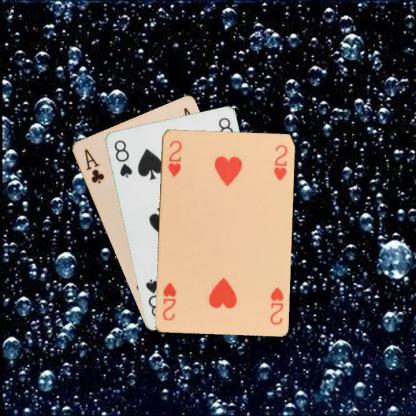2h: (165, 138, 183, 178), (268, 284, 284, 326)
8s: (111, 137, 133, 178)
Ac: (82, 146, 105, 185)
